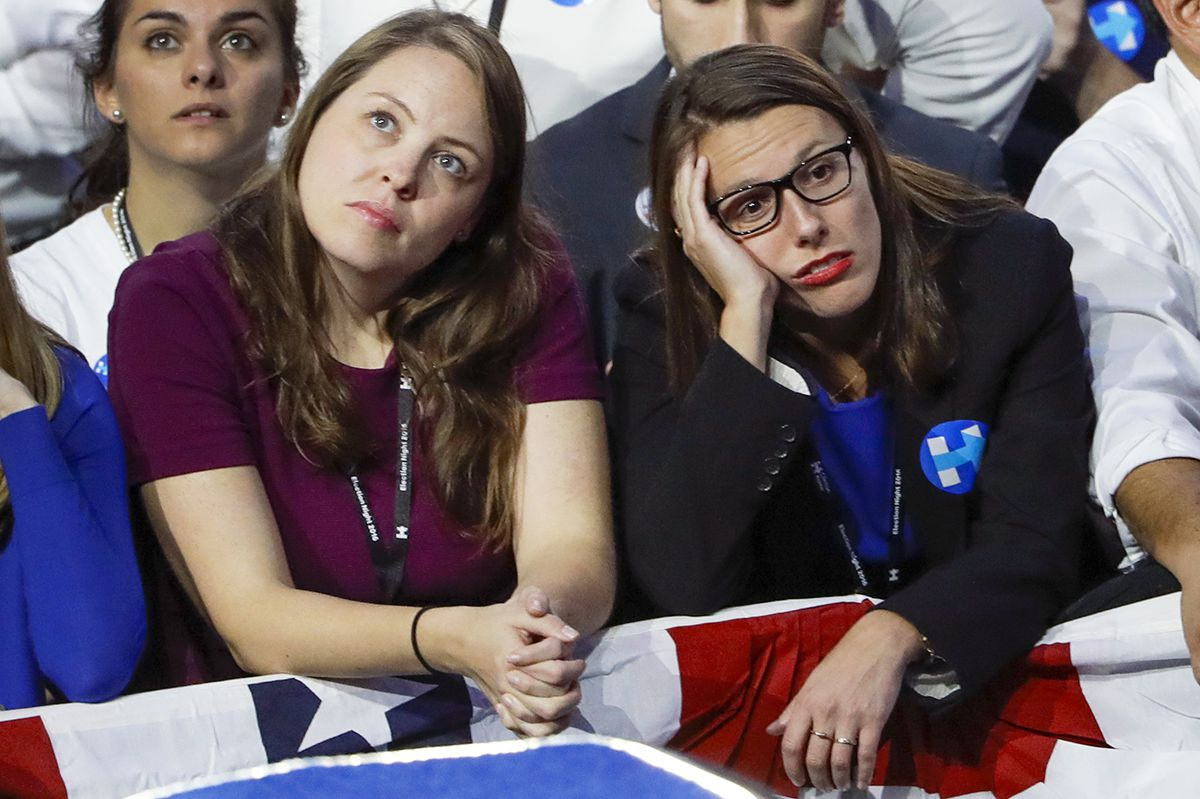sad: (296, 49, 517, 282), (669, 126, 903, 319)
